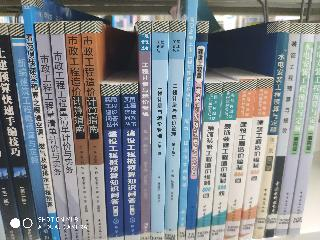book-spine: (10, 23, 51, 240), (22, 0, 59, 240), (262, 23, 302, 238), (0, 23, 39, 240), (276, 23, 315, 237), (283, 23, 320, 237), (253, 22, 289, 239), (37, 22, 71, 240), (51, 21, 82, 240), (66, 22, 95, 240), (237, 77, 273, 240), (82, 22, 106, 240), (224, 79, 256, 240), (185, 21, 208, 240), (176, 1, 197, 240), (162, 22, 185, 239), (147, 21, 169, 240), (194, 82, 222, 240), (210, 82, 238, 240), (102, 85, 123, 240), (122, 84, 139, 240), (138, 21, 150, 240)
